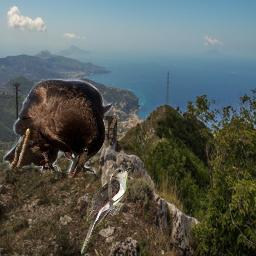Crow: (2, 78, 115, 179)
Cuckoo: (81, 167, 133, 254)
